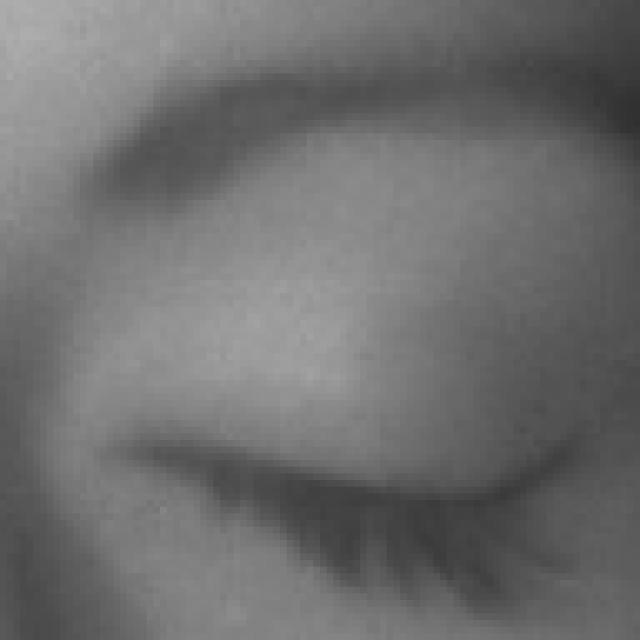Eyeclosed: (106, 229, 594, 640)
